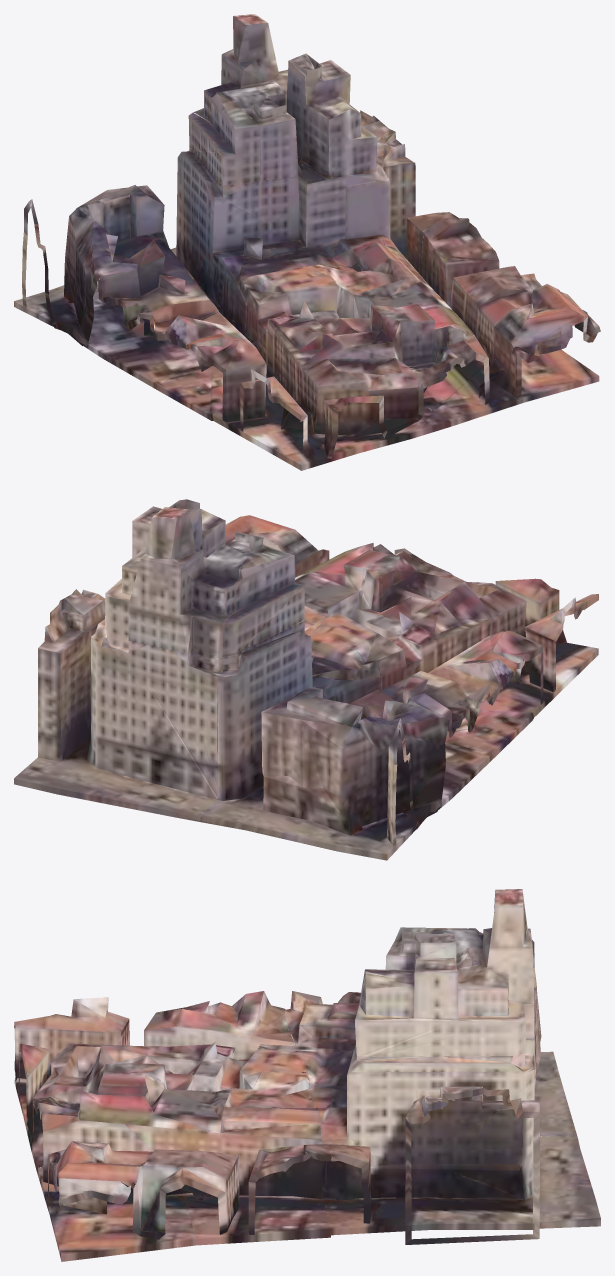
The picture shows the model from 3 angles, top to bottom: view 1: azimuth 30°, elevation 25°; view 2: azimuth 150°, elevation 25°; view 3: azimuth 270°, elevation 25°; orthographic projection. The views are drawn at different scales.
Visible parts, largest first — view 1: Mesh_0; view 2: Mesh_0; view 3: Mesh_0.
Part boxes in pixels (x1=…): Mesh_0: x1=14, y1=14, x2=600, y2=470; Mesh_0: x1=14, y1=499, x2=598, y2=860; Mesh_0: x1=14, y1=889, x2=600, y2=1261.
Bounding box in the file's own units: 134 × 91.14 × 165.
2 materials, 2 textured.
